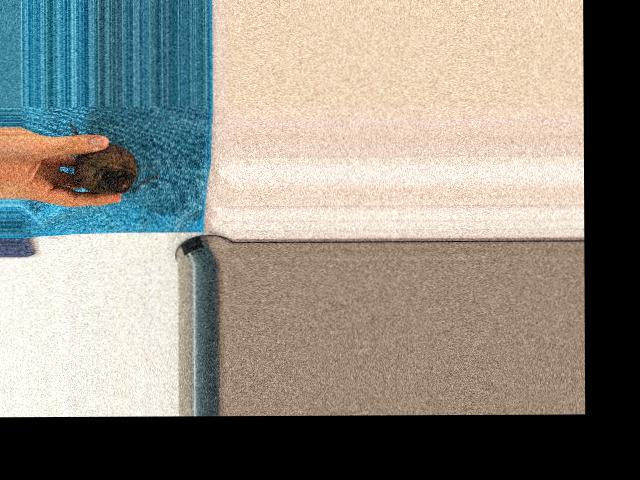beet: (70, 122, 158, 193)
